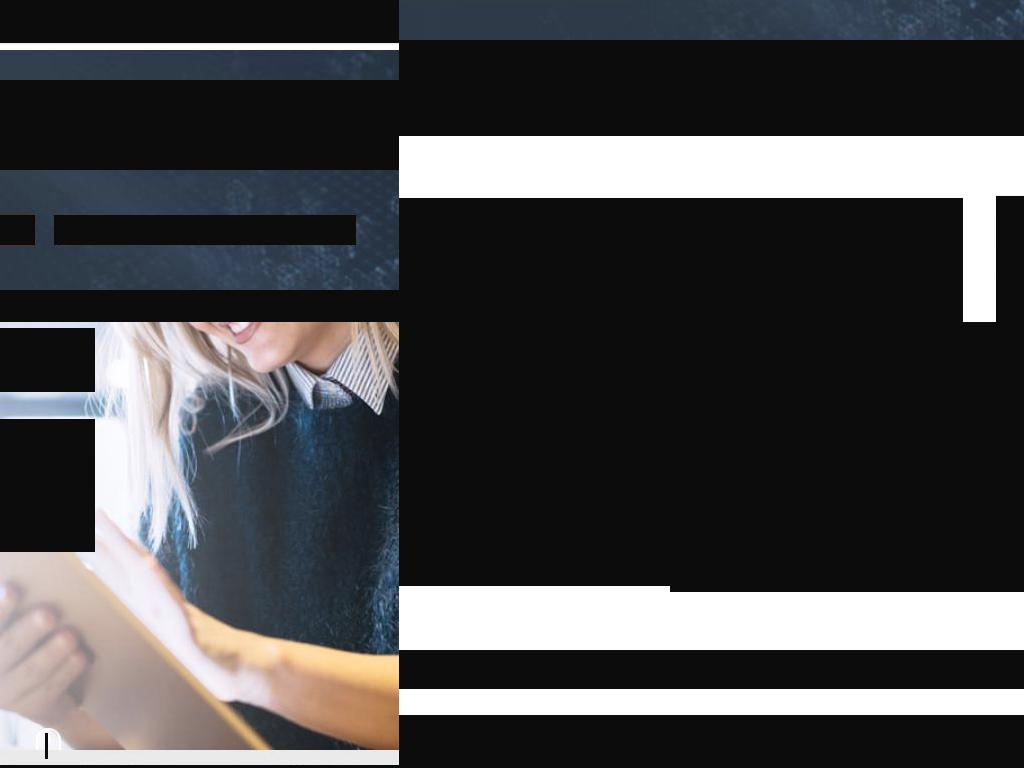button: (399, 40, 1024, 136), (54, 215, 356, 245), (23, 5, 146, 43), (219, 5, 342, 43), (146, 5, 219, 43), (342, 5, 399, 43), (143, 0, 279, 14), (279, 0, 399, 14), (0, 0, 84, 14), (0, 5, 23, 43), (84, 0, 143, 14)
heading: (399, 650, 1024, 689), (0, 80, 399, 140), (399, 74, 960, 99), (0, 140, 399, 170), (399, 322, 580, 365), (0, 328, 95, 392), (399, 368, 482, 422)
image: (399, 322, 1024, 586), (670, 322, 1024, 592)
text: (399, 198, 963, 322), (399, 715, 1024, 768), (399, 468, 622, 536), (0, 419, 95, 552), (399, 99, 960, 121), (399, 55, 960, 74), (399, 443, 622, 486), (55, 216, 355, 244), (0, 305, 339, 322), (399, 468, 530, 486), (357, 16, 399, 33), (45, 733, 48, 759)
